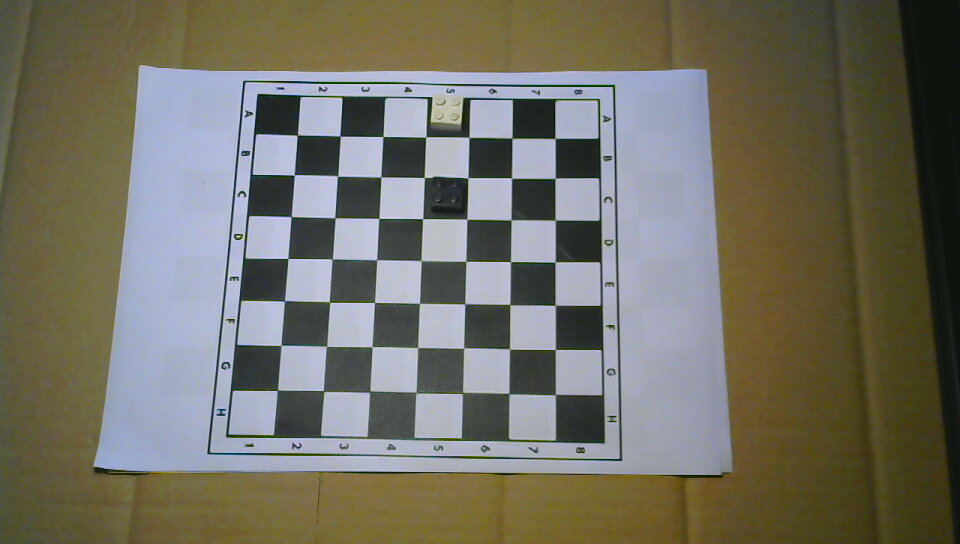bp: (429, 175, 463, 213)
wp: (429, 93, 464, 133)
